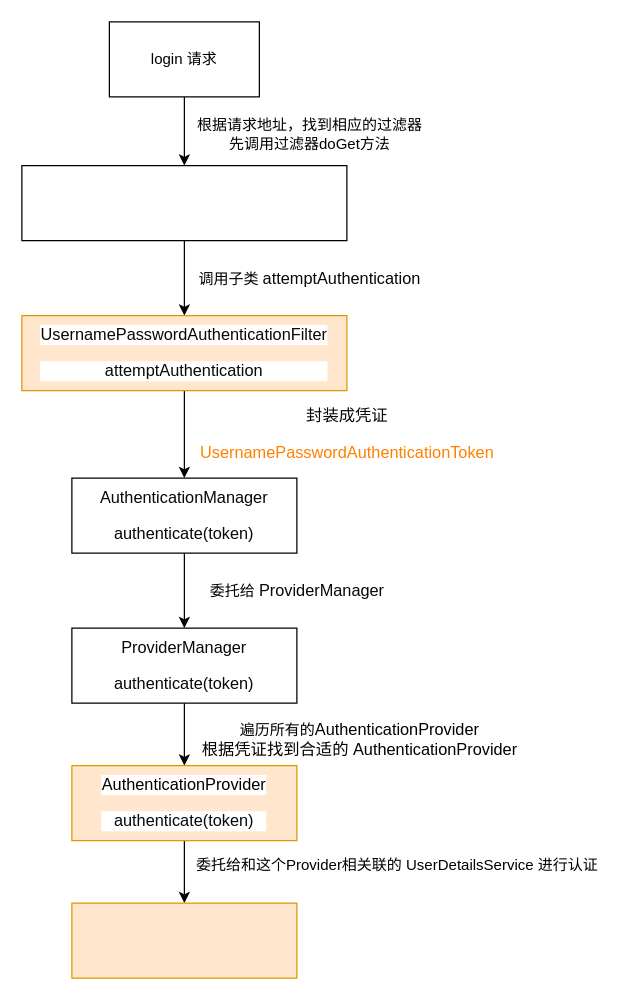
Some shapes in this 631 by 1006 pixel diagram are drawn without their labels. The centre of each missing label's shape, as x and y in pixels:
"UserDetailsService loadUserByUsername (token)" goes at pixel 184 940.
"UsernamePasswordAuthenticationFilter doGet" goes at pixel 184 202.
